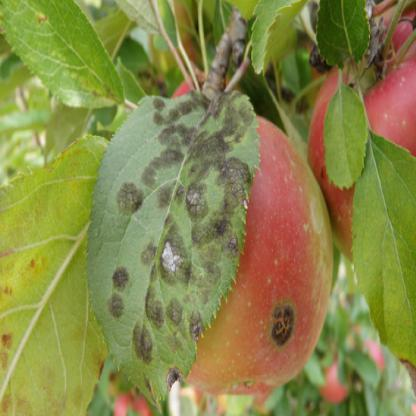apple scab leaf: (86, 67, 262, 415)
